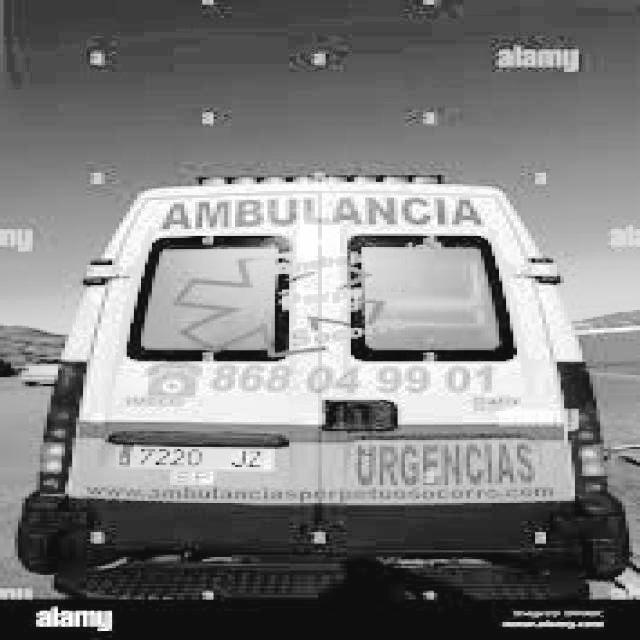LCV: (18, 188, 623, 580)
